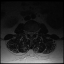CCS_normal: (30, 30, 32, 38)
LFS_normal: (34, 30, 36, 35)
LLS_normal: (32, 30, 34, 36)
RFS_normal: (27, 30, 29, 35)
RLS_normal: (29, 30, 30, 36)
